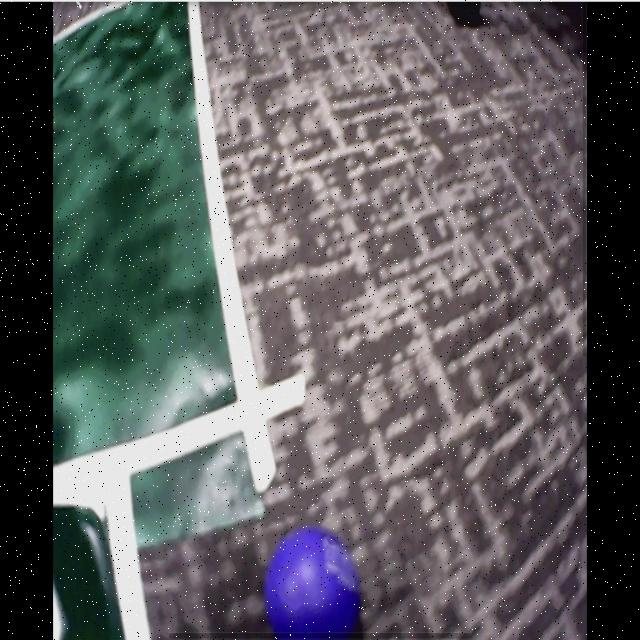ball: (266, 526, 361, 638)
